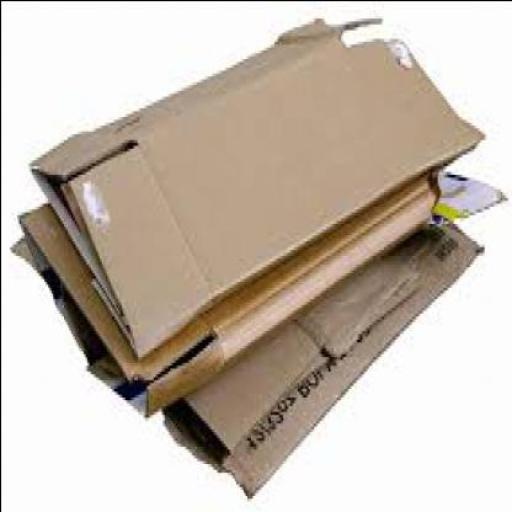cardboard: (25, 168, 510, 498), (30, 11, 487, 353), (10, 165, 440, 420)
